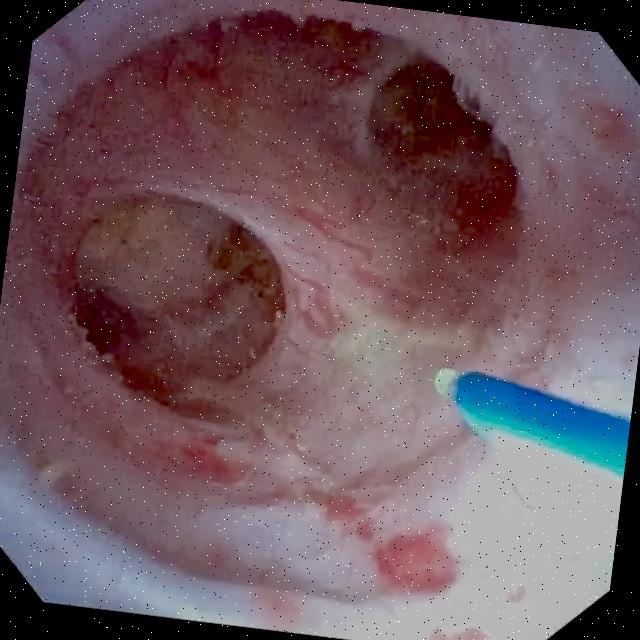laser-fibre: (436, 369, 459, 399)
laser_dot: (336, 326, 386, 372)
